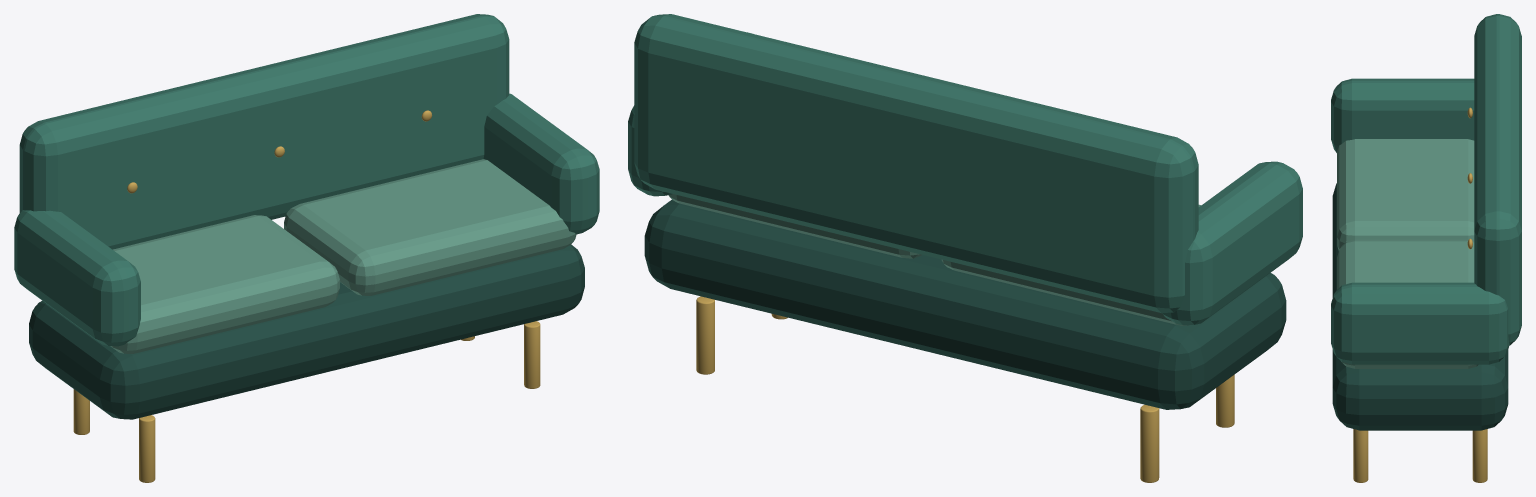
File: salon_sofa.glb
The picture shows the model from 3 angles, left to right: view 1: azimuth 30°, elevation 25°; view 2: azimuth 150°, elevation 25°; view 3: azimuth 270°, elevation 25°; orthographic projection. The views are drawn at different scales.
Visible parts, largest first — view 1: Sculpted_back, Upholstered_base, Seat_cushion.001, Seat_cushion, Rolled_arm, Rolled_arm.001, Brass_foot.001, Brass_foot.003, Brass_foot; view 2: Sculpted_back, Upholstered_base, Rolled_arm, Seat_cushion.001, Seat_cushion, Brass_foot, Brass_foot.002, Brass_foot.001, Rolled_arm.001; view 3: Rolled_arm.001, Seat_cushion, Sculpted_back, Upholstered_base, Rolled_arm, Seat_cushion.001, Brass_foot.002, Brass_foot.003.
Boxes of the visible parts, x1,y1,x2,y2 form: Sculpted_back: (19, 14, 509, 249); Upholstered_base: (29, 244, 584, 419); Seat_cushion.001: (284, 159, 576, 295); Seat_cushion: (110, 215, 339, 353); Rolled_arm: (14, 210, 140, 346); Rolled_arm.001: (483, 93, 599, 234); Brass_foot.001: (139, 415, 155, 482); Brass_foot.003: (524, 321, 540, 388); Brass_foot: (73, 389, 89, 434); Sculpted_back: (634, 14, 1198, 313); Upholstered_base: (644, 200, 1286, 409); Rolled_arm: (1162, 161, 1302, 325); Seat_cushion.001: (668, 194, 921, 258); Seat_cushion: (941, 204, 1200, 325); Brass_foot: (1140, 405, 1159, 482); Brass_foot.002: (696, 296, 714, 374); Brass_foot.001: (1216, 374, 1234, 427); Rolled_arm.001: (628, 32, 751, 196); Rolled_arm.001: (1331, 282, 1509, 364); Seat_cushion: (1337, 139, 1474, 250); Sculpted_back: (1474, 14, 1521, 345); Upholstered_base: (1332, 183, 1508, 430); Rolled_arm: (1331, 78, 1474, 152); Seat_cushion.001: (1337, 239, 1478, 368); Brass_foot.002: (1472, 429, 1487, 482); Brass_foot.003: (1353, 429, 1368, 482).
Bounding box in the file's own units: 1.78 × 1.04 × 0.64.
